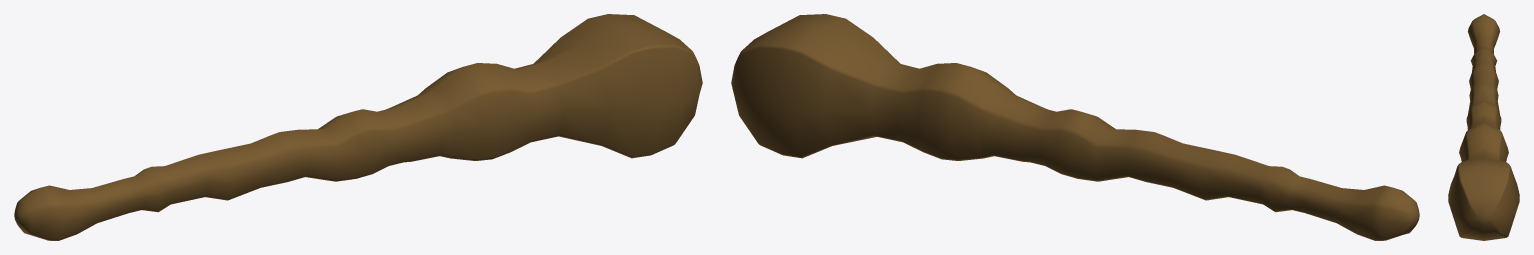
File: SoftClub.fbx
3 views of the same model, side by side, from view 1: azimuth 30°, elevation 25°; view 2: azimuth 150°, elevation 25°; view 3: azimuth 270°, elevation 25° (orthographic). The views are drawn at different scales.
Parts seen in each view (by area): view 1: SoftClub; view 2: SoftClub; view 3: SoftClub.
Part boxes in pixels (bbox=[...]): SoftClub: bbox=[14, 14, 702, 240]; SoftClub: bbox=[731, 14, 1419, 240]; SoftClub: bbox=[1448, 14, 1519, 240].
Bounding box in the file's own units: 13.18 × 2.3 × 2.11.
